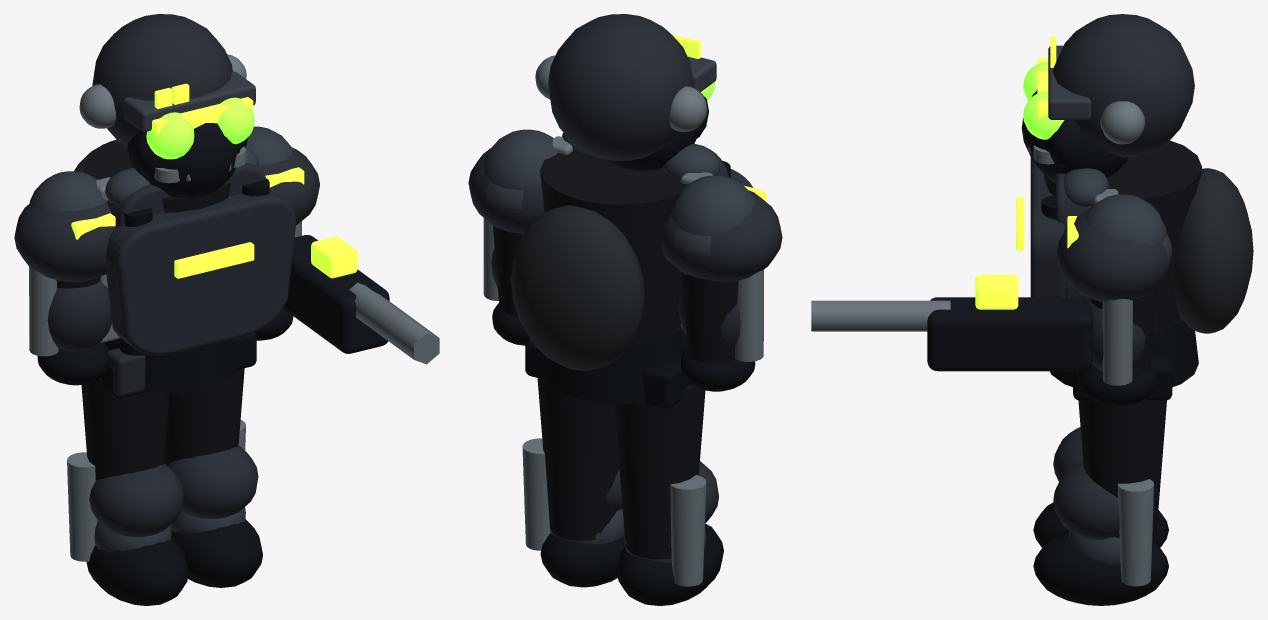
The model's file is sentinel_l02.glb.
3 renders of one model, left to right at view 1: azimuth 30°, elevation 25°; view 2: azimuth 150°, elevation 25°; view 3: azimuth 270°, elevation 25°, orthographic. The views are drawn at different scales.
Parts seen in each view (by area): view 1: contoured_tactical_plate, trouser (×2), shaped_knee_guard (×2), rounded_helmet, rounded_boot (×2), broad_shoulder_guard (×2), heavy_carbine, enclosed_mask, waist_flex, curved_forearm_guard, shoulder_joint (×2), heavy_barrel (+19 smaller); view 2: trouser (×2), shaped_field_pack, rounded_helmet, body, broad_shoulder_guard (×2), rounded_boot (×2), shoulder_joint (×2), shin_frame (×2), sleeve (×2), waist_flex, forearm_seam (×2), glove (×2) (+9 smaller); view 3: rounded_helmet, heavy_carbine, shaped_field_pack, trouser, rounded_boot (×2), body, broad_shoulder_guard, shaped_knee_guard (×2), heavy_barrel, shin_frame, contoured_tactical_plate, shoulder_joint (+15 smaller).
Boxes of the visible parts, x1,y1,x2,y2 form: contoured_tactical_plate: (105, 190, 296, 355); trouser (×2): (81, 368, 244, 521); shaped_knee_guard (×2): (89, 445, 258, 537); rounded_helmet: (92, 14, 232, 146); rounded_boot (×2): (86, 519, 262, 605); broad_shoulder_guard (×2): (14, 147, 319, 281); heavy_carbine: (283, 235, 389, 353); enclosed_mask: (127, 123, 240, 198); waist_flex: (104, 338, 236, 393); curved_forearm_guard: (47, 281, 112, 350); shoulder_joint (×2): (29, 126, 293, 211); heavy_barrel: (349, 282, 439, 364); trouser (×2): (537, 378, 705, 559); shaped_field_pack: (511, 205, 644, 370); rounded_helmet: (548, 14, 693, 160); body: (540, 151, 687, 340); broad_shoulder_guard (×2): (468, 147, 782, 281); rounded_boot (×2): (540, 523, 723, 605); shoulder_joint (×2): (484, 129, 755, 236); shin_frame (×2): (522, 438, 706, 586); sleeve (×2): (492, 225, 738, 363); waist_flex: (546, 325, 686, 403); forearm_seam (×2): (483, 218, 763, 361); glove (×2): (492, 303, 755, 391); rounded_helmet: (1052, 14, 1194, 157); heavy_carbine: (927, 297, 1092, 371); shaped_field_pack: (1173, 168, 1253, 333); trouser: (1078, 398, 1166, 547); rounded_boot (×2): (1033, 502, 1168, 605); body: (1044, 140, 1201, 330); broad_shoulder_guard: (1056, 211, 1172, 301); shaped_knee_guard (×2): (1053, 427, 1119, 539); heavy_barrel: (811, 300, 950, 331); shin_frame: (1117, 479, 1154, 586); contoured_tactical_plate: (1030, 157, 1065, 297); shoulder_joint: (1084, 194, 1166, 244).
Size of the model in its own units: 1.02 by 1.87 by 1.33.
